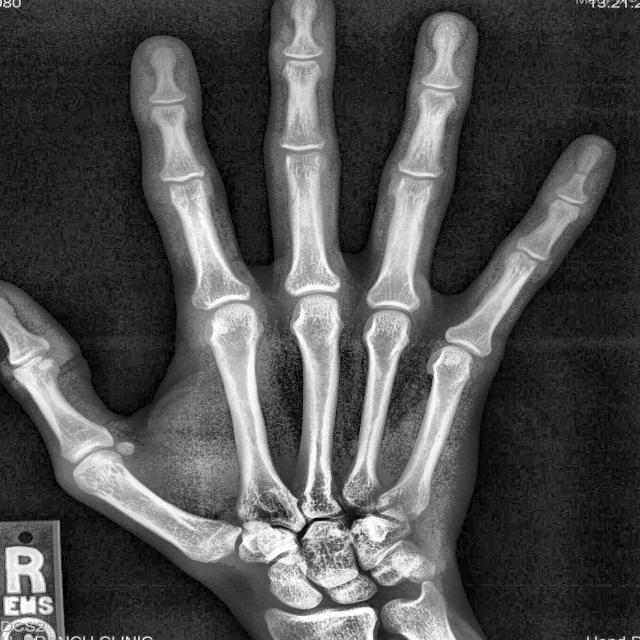fracture: (572, 168, 590, 176)
